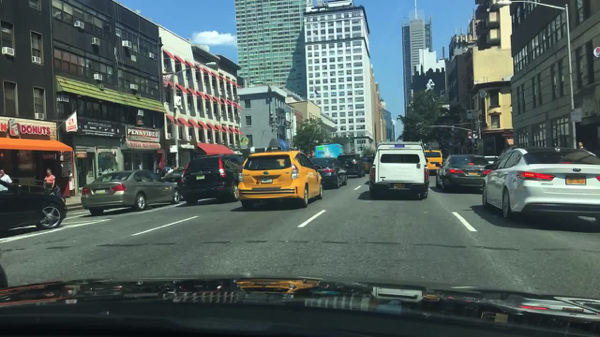car: (481, 143, 599, 225), (237, 138, 324, 208), (81, 170, 182, 214), (366, 140, 430, 201), (0, 179, 67, 232), (179, 154, 242, 204), (434, 154, 491, 192), (310, 156, 348, 188), (336, 152, 365, 178), (425, 149, 444, 176), (164, 168, 186, 185), (364, 154, 375, 175), (485, 155, 499, 166)
person: (43, 168, 56, 193), (1, 169, 12, 192), (575, 141, 587, 150)
traffic light: (348, 133, 352, 141), (423, 129, 427, 137)
truck: (315, 143, 344, 158)
